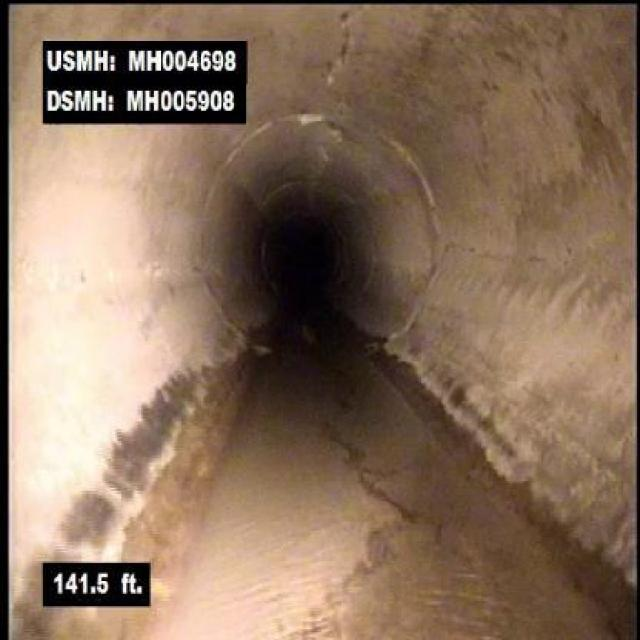Buckling: (314, 511, 417, 638)
Crack: (452, 234, 611, 275), (331, 429, 403, 514), (324, 7, 356, 84)
